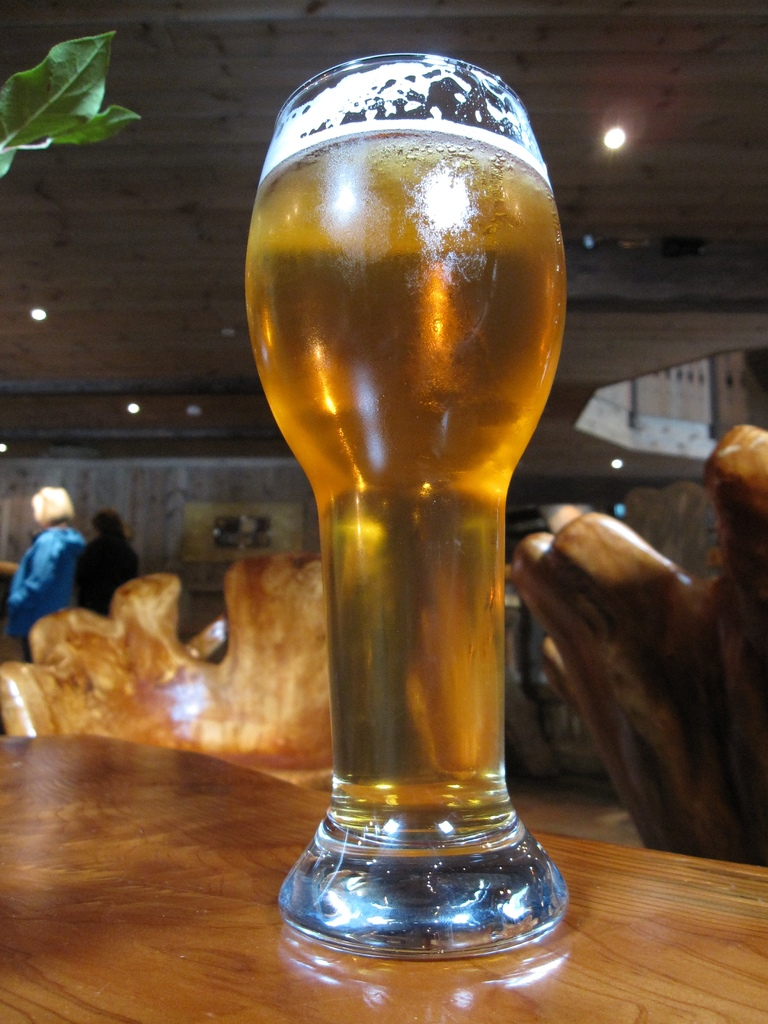Beer: (236, 121, 568, 842)
